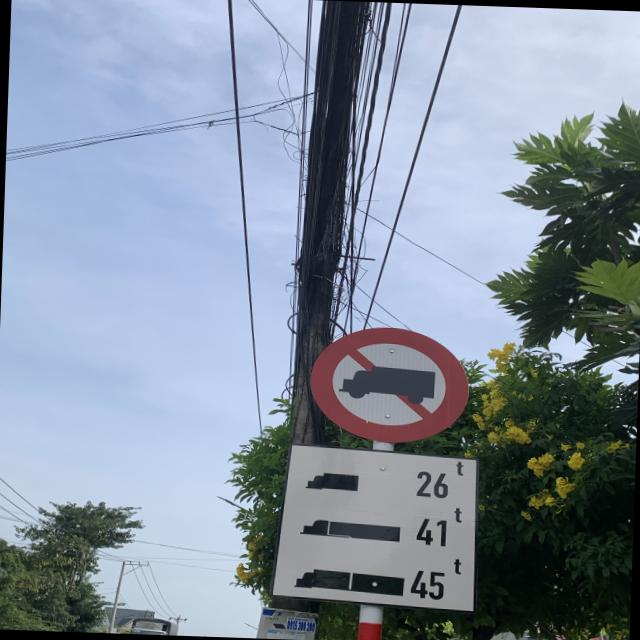Cam_Xe_Tai: (308, 324, 474, 444)
